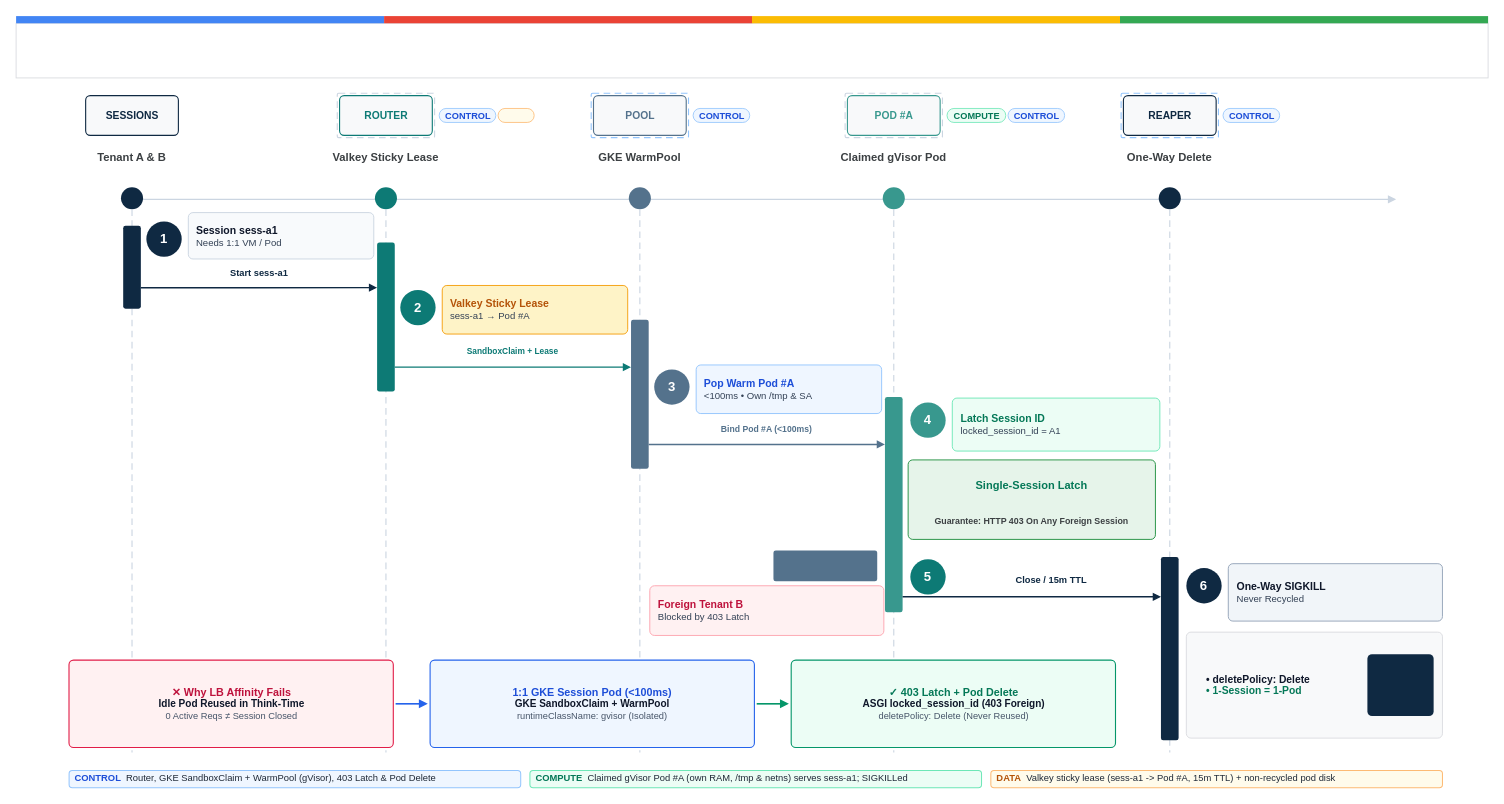
Image size: 1504x804. Some labels were removed from this diagram. The shapes that lost their labels are listed below. From the top down, each one's box as (x1, y1, x2, y2) in pixels, then its label:
(15, 22, 1488, 78): WS2 - PART 2 (Mode B) - Stateful Session Pod WarmPool & 403 Latch
(497, 108, 534, 122): DATA
(773, 550, 877, 581): 403 Latch
(1367, 654, 1433, 716): POD DEL
